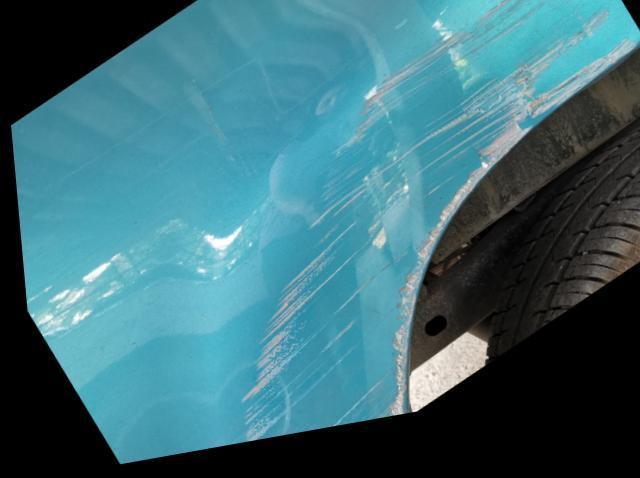scratch: (227, 0, 637, 451)
